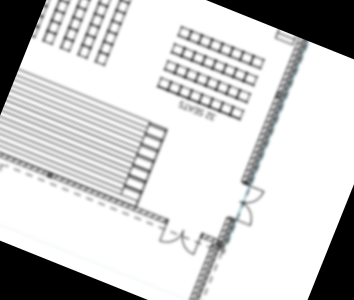double door: (155, 221, 203, 258), (232, 182, 267, 229)
